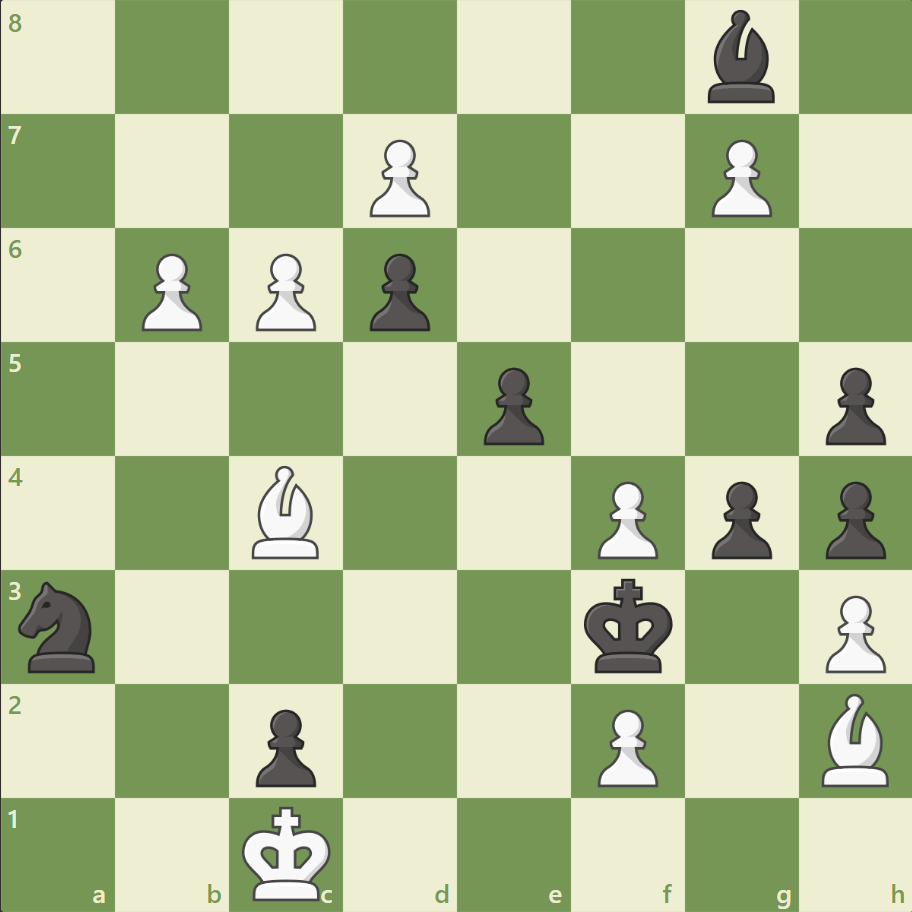B: (244, 460, 328, 563), (812, 687, 896, 790)
K: (238, 798, 338, 906)
P: (701, 132, 776, 223), (133, 246, 208, 337), (247, 246, 322, 337), (361, 132, 435, 223), (588, 473, 662, 564), (815, 586, 889, 677), (588, 700, 662, 791)
b: (698, 6, 782, 109)
k: (579, 571, 679, 679)
n: (11, 575, 108, 677)
p: (474, 359, 549, 450), (701, 473, 776, 564), (247, 700, 322, 791), (361, 246, 435, 337), (815, 359, 889, 450), (815, 473, 889, 564)
